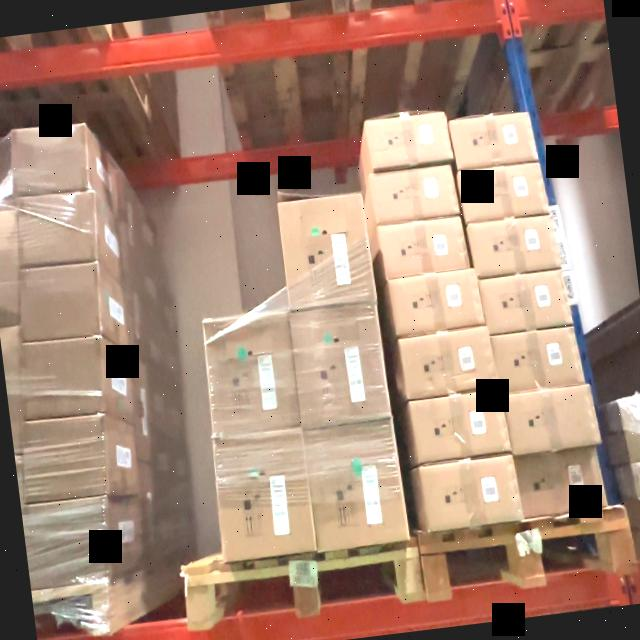box: (215, 431, 316, 561), (304, 422, 408, 548), (204, 314, 300, 435), (290, 306, 388, 424), (278, 194, 374, 308), (26, 497, 114, 587), (19, 416, 108, 502), (418, 455, 520, 529), (21, 337, 104, 419), (411, 392, 508, 462), (400, 330, 496, 398), (17, 190, 100, 266), (508, 385, 600, 453), (21, 266, 102, 341), (390, 268, 482, 334), (518, 446, 606, 514), (12, 123, 91, 197), (496, 327, 583, 393), (482, 270, 571, 332), (472, 215, 560, 277), (382, 216, 469, 278), (459, 164, 547, 223), (374, 164, 460, 224), (366, 112, 451, 170), (452, 112, 537, 168), (0, 332, 30, 452), (0, 206, 23, 324)
